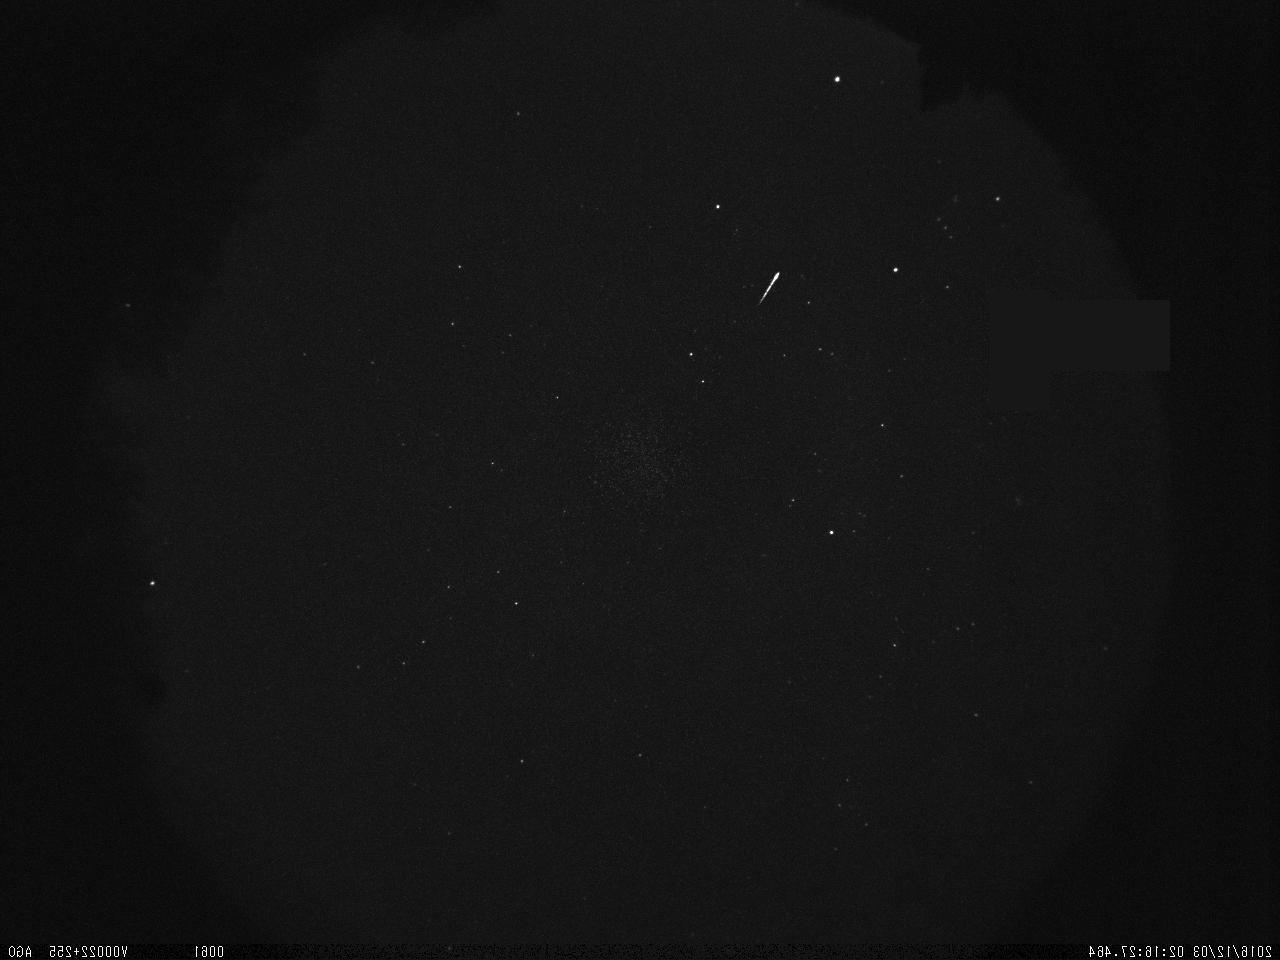meteor: (754, 263, 787, 307)
